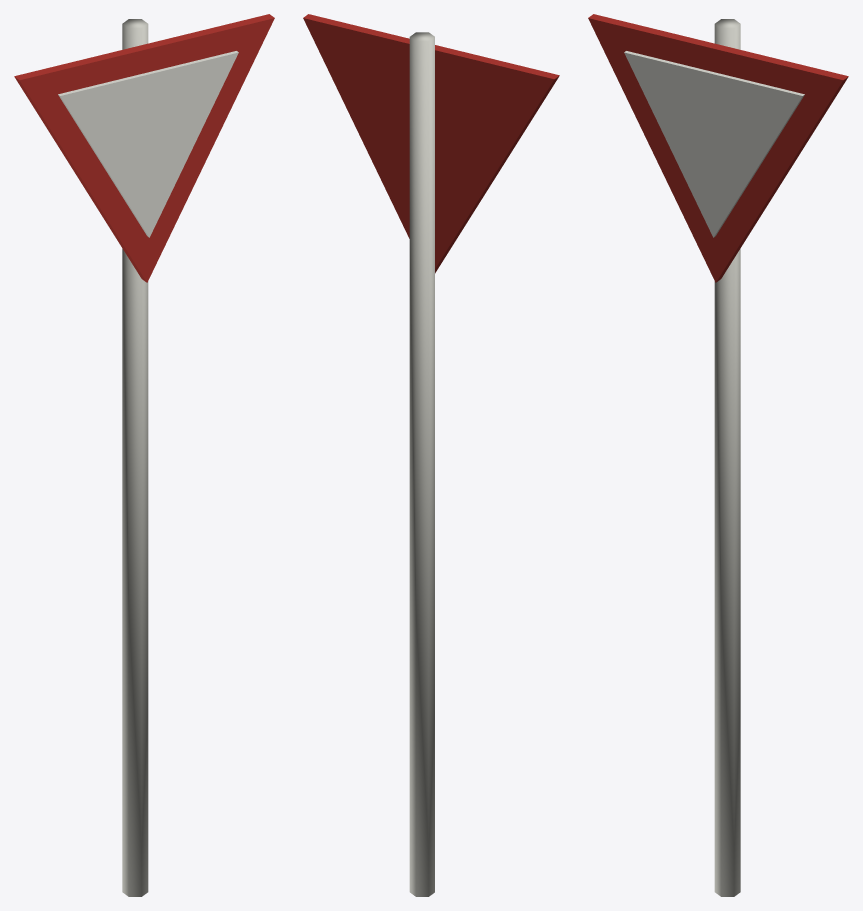
File: sign_giveway.glb
3 views of the same model, side by side, from view 1: azimuth 30°, elevation 25°; view 2: azimuth 150°, elevation 25°; view 3: azimuth 330°, elevation 25° (orthographic).
Parts seen in each view (by area): view 1: RoadSign; view 2: RoadSign; view 3: RoadSign.
Part boxes in pixels (x1,y1,x2,y2): RoadSign: (14, 14, 274, 896); RoadSign: (303, 14, 559, 896); RoadSign: (588, 14, 848, 896).
Bounding box in the file's own units: 0.8 × 2.6 × 0.1125.
